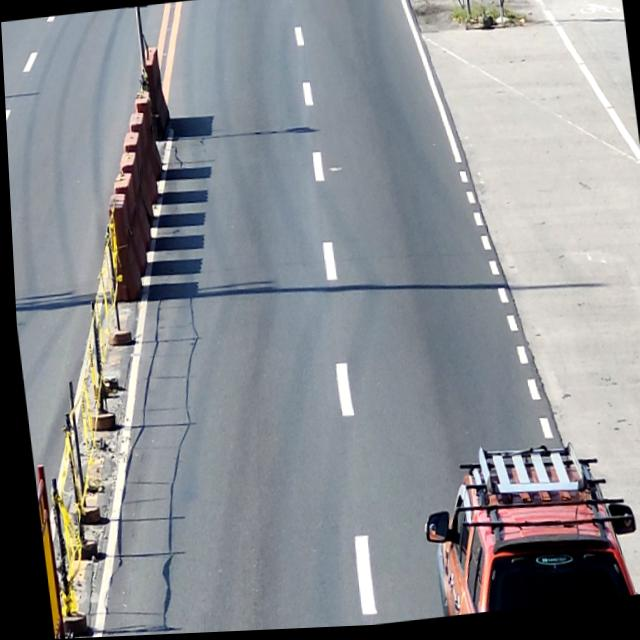Car: (409, 436, 638, 621)
